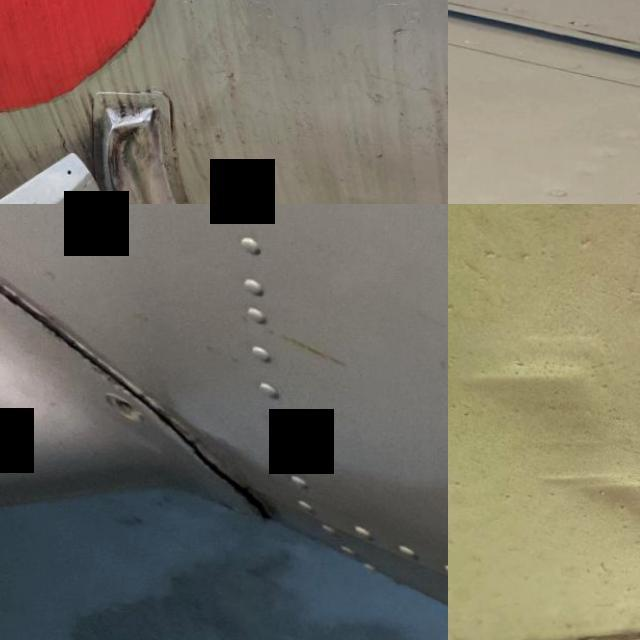Crack: (0, 282, 180, 406), (149, 400, 288, 544)
Dent: (448, 308, 640, 572), (90, 89, 175, 204)
Missing_Fastener: (110, 394, 140, 417)
